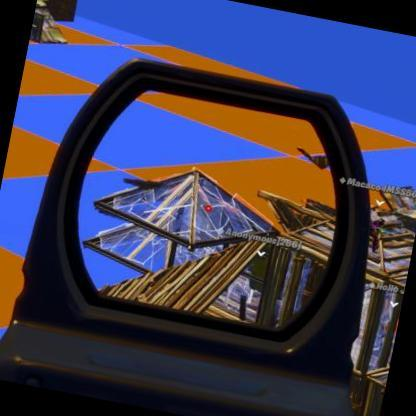person: (365, 214, 387, 250)
